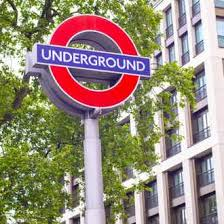London Underground: (31, 15, 148, 110)
